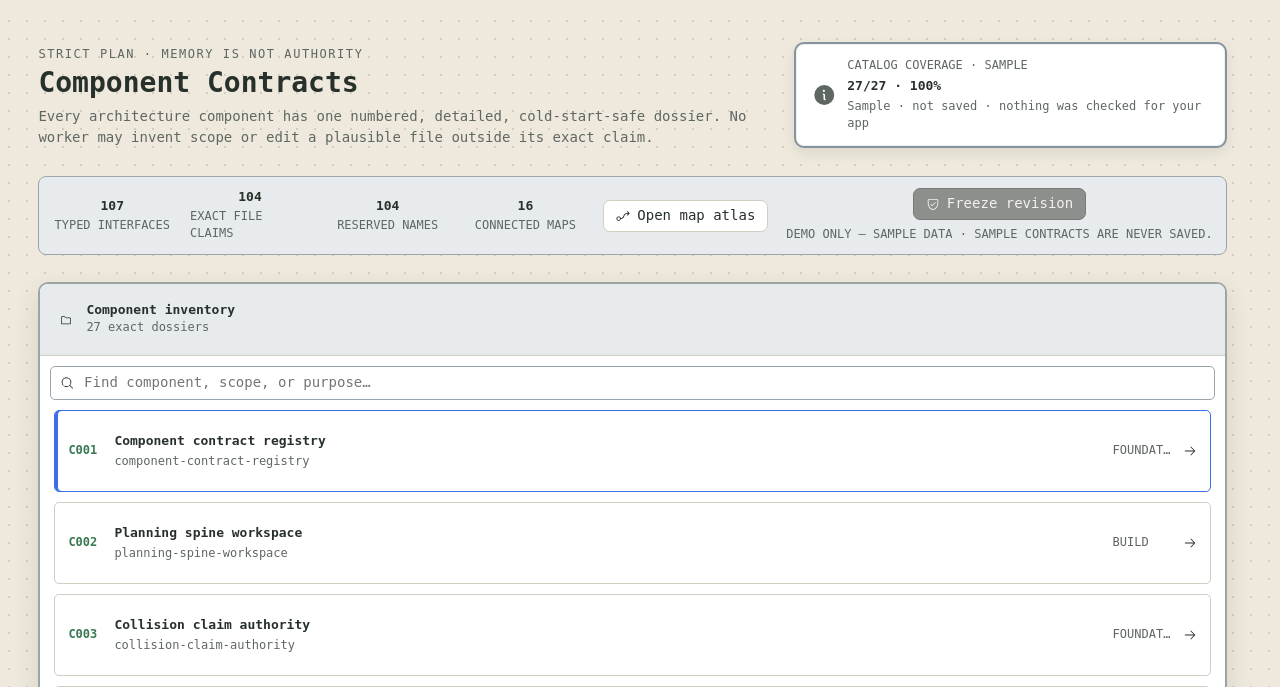
Scenario: Define controls › Demo component search with no match says so, counts matches and hides the dossier
Type "zzzz-nothing" into the field labelled "Find component, scope, or purpose" at [643, 383], box top-left (82, 371), bottom-right (1205, 395)
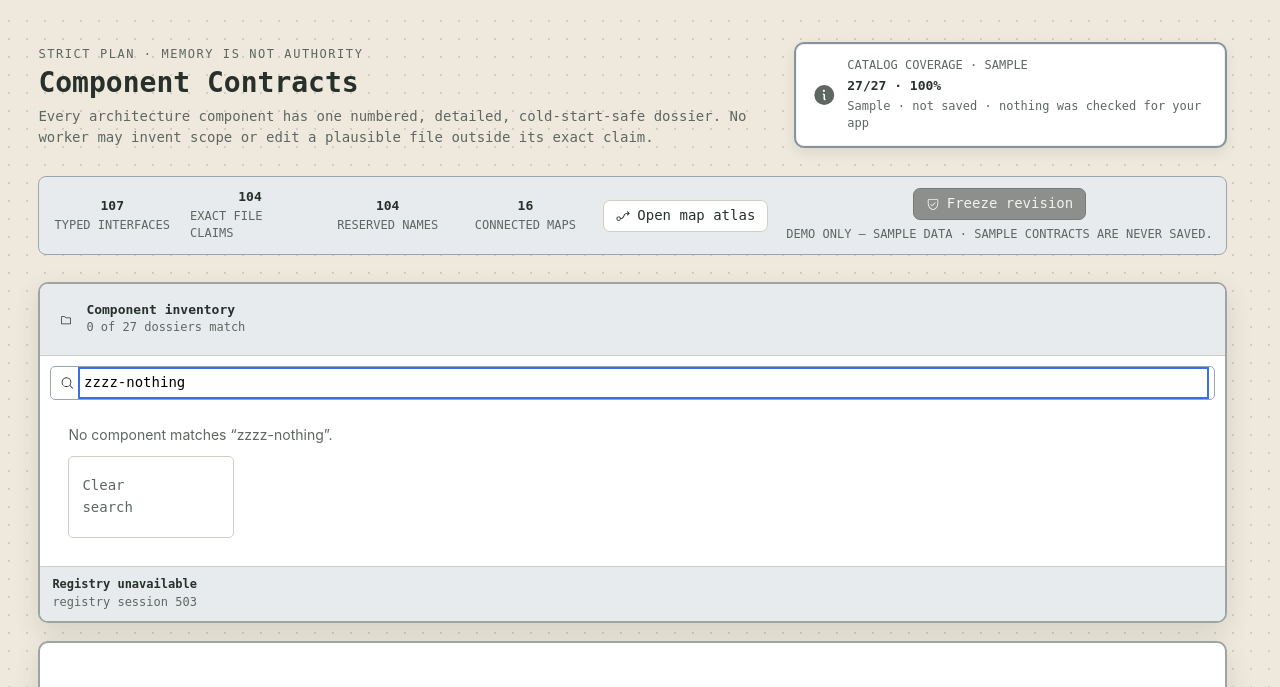
Expected: the message shows "No component matches “zzzz-nothing”", top-left (68, 426), bottom-right (333, 538)
Click the button "Clear search" at [151, 497], box top-left (68, 456), bottom-right (234, 538)
(page scrolled)
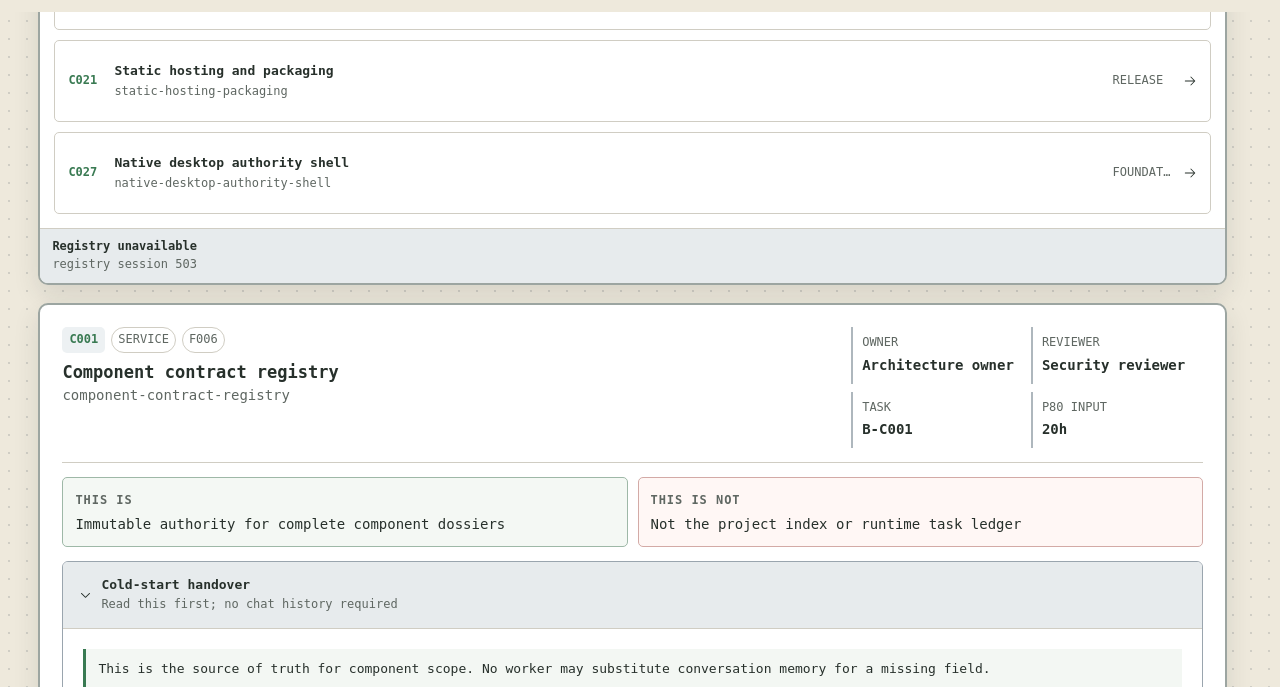
Expected: the heading "Component contract registry" is shown, top-left (62, 362), bottom-right (339, 382)
